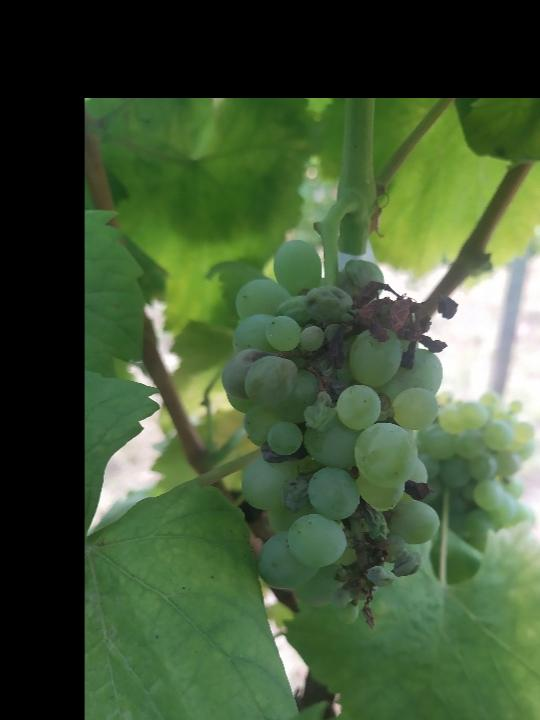grape: (221, 238, 459, 633)
